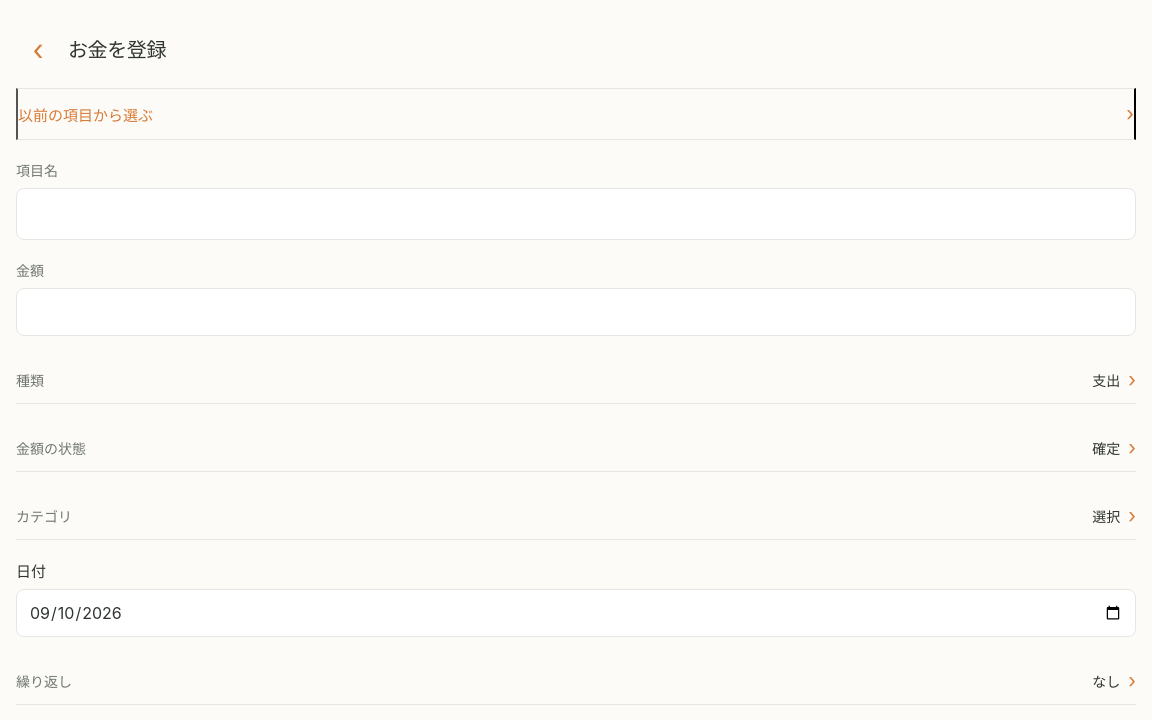
it: M11 search › uses the same reuse sheet for Money title/category search and preserves copied recurrence defaults
expect the button with aria-label "お金カテゴリ" is shown: met, box [16, 492, 1136, 540]
Click the button "以前の項目から選ぶ ›": (86, 115) [16, 88, 1136, 140]
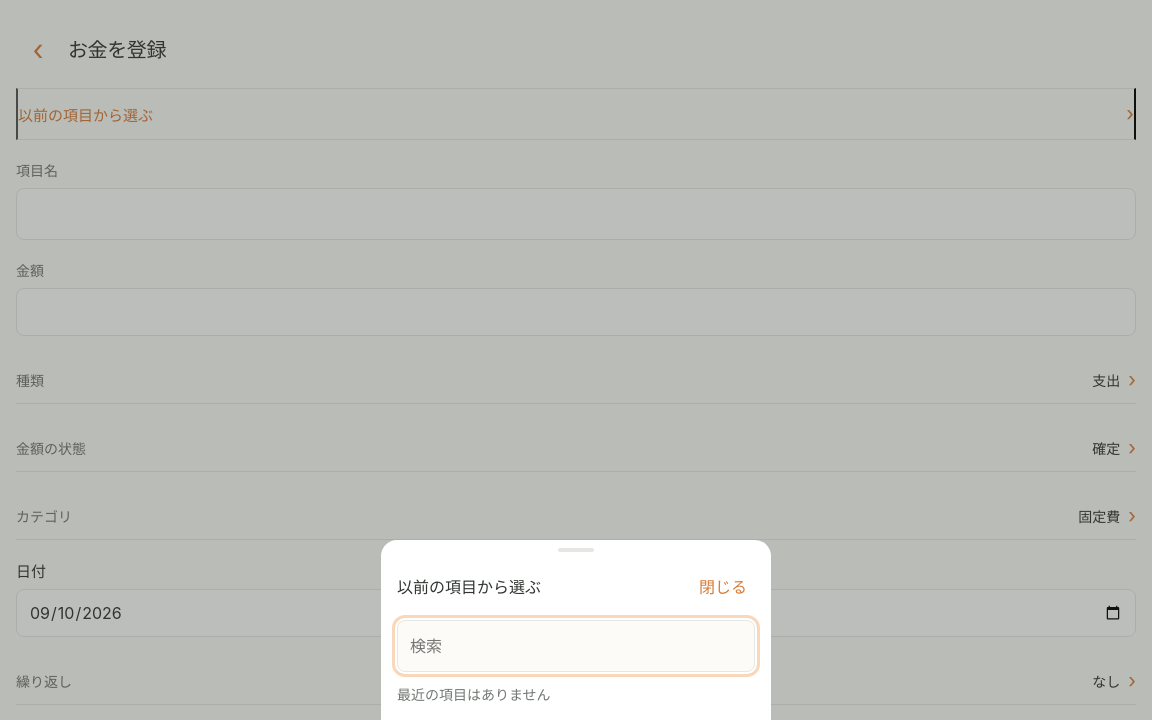
In the field named "以前のお金を検索": (576, 646) [397, 620, 755, 672], type "固定"
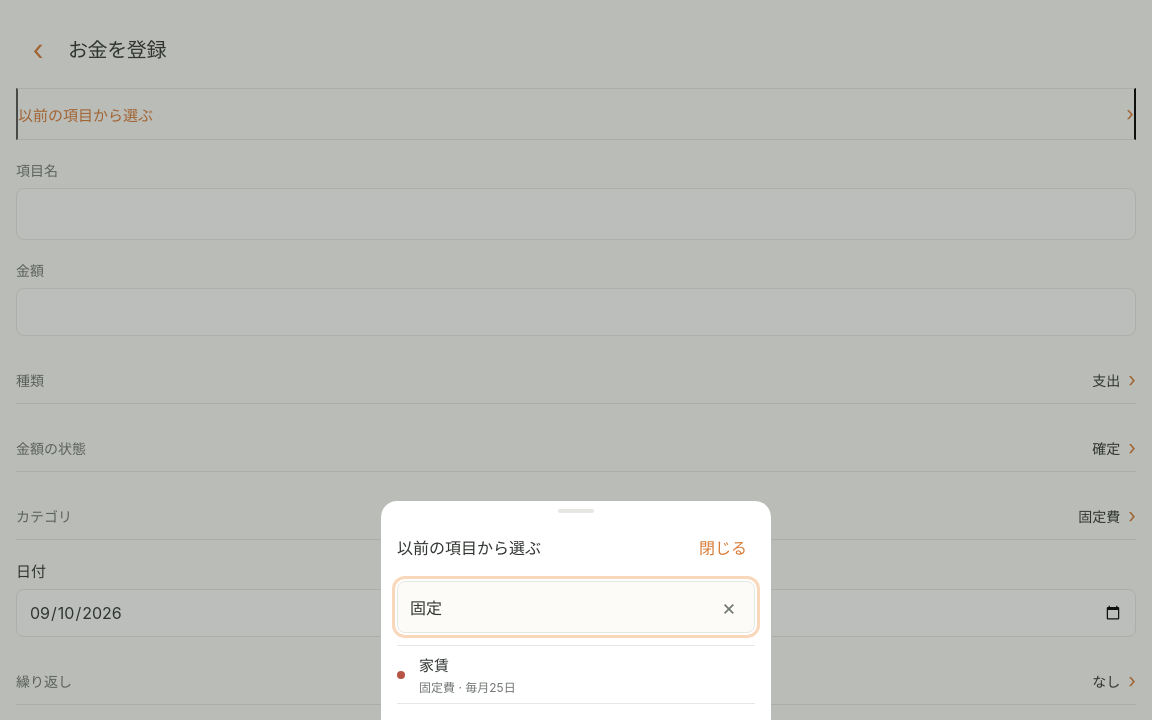
expect the button "家賃 固定費 · 毎月25日" is shown: met
Click the button "家賃 固定費 · 毎月25日": (434, 666) [397, 646, 755, 704]
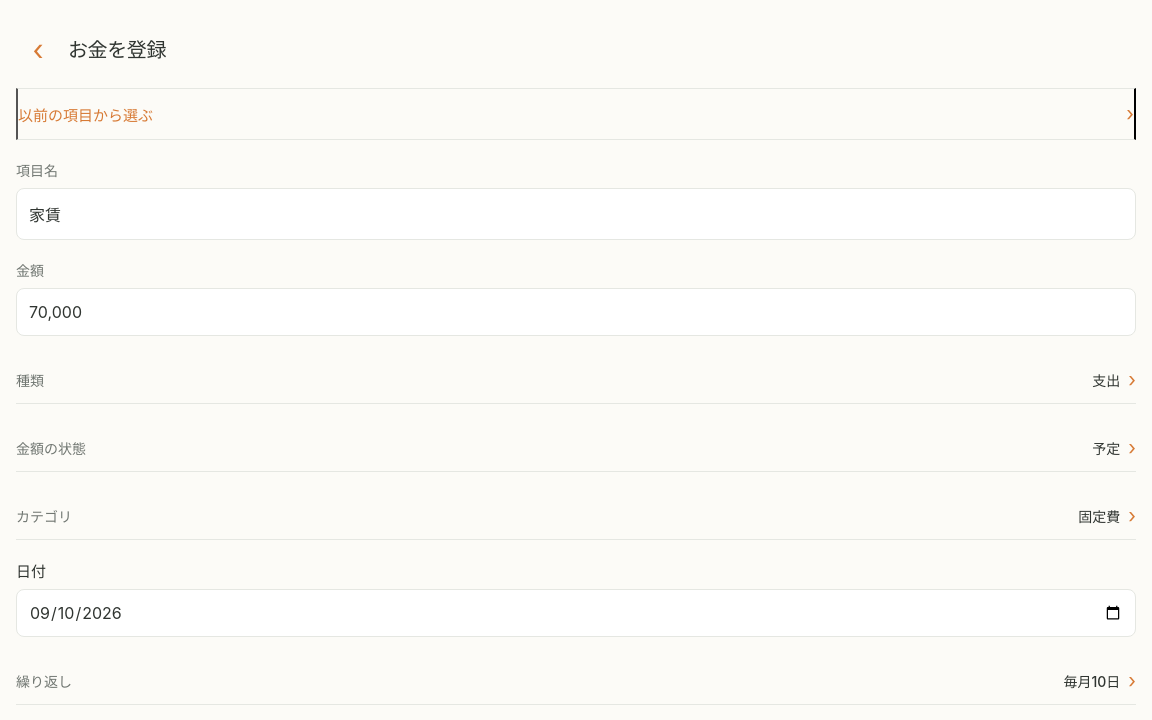
expect the field labelled "項目名" holds "家賃": met, box [16, 188, 1136, 240]
expect the field labelled "金額" holds "70,000": met, box [16, 288, 1136, 336]
expect the button "金額の状態 予定 ›" is shown: met, box [16, 424, 1136, 472]
